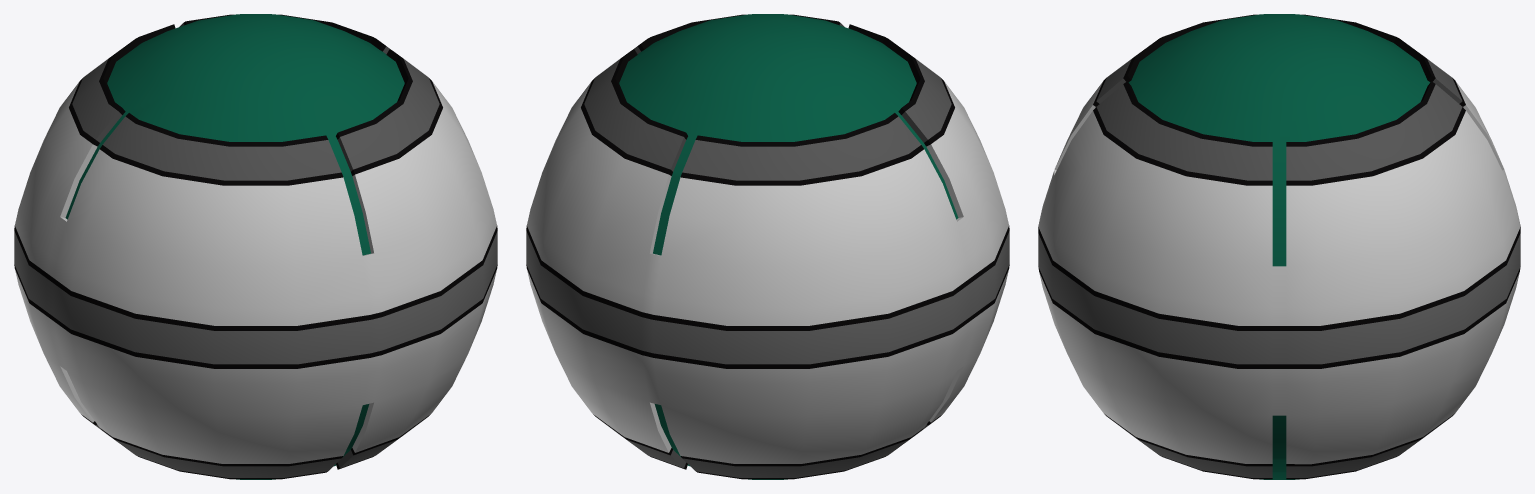
File: MOb_Capsule_Green.fbx
The picture shows the model from 3 angles, left to right: view 1: azimuth 30°, elevation 25°; view 2: azimuth 150°, elevation 25°; view 3: azimuth 270°, elevation 25°; orthographic projection.
Parts seen in each view (by area): view 1: MOb_Capsule_Green; view 2: MOb_Capsule_Green; view 3: MOb_Capsule_Green.
Boxes of the visible parts, x1=… form: MOb_Capsule_Green: x1=14, y1=14, x2=497, y2=479; MOb_Capsule_Green: x1=526, y1=14, x2=1009, y2=479; MOb_Capsule_Green: x1=1038, y1=14, x2=1520, y2=479.
Size of the model in its own units: 0.3555 by 0.3494 by 0.3599.
